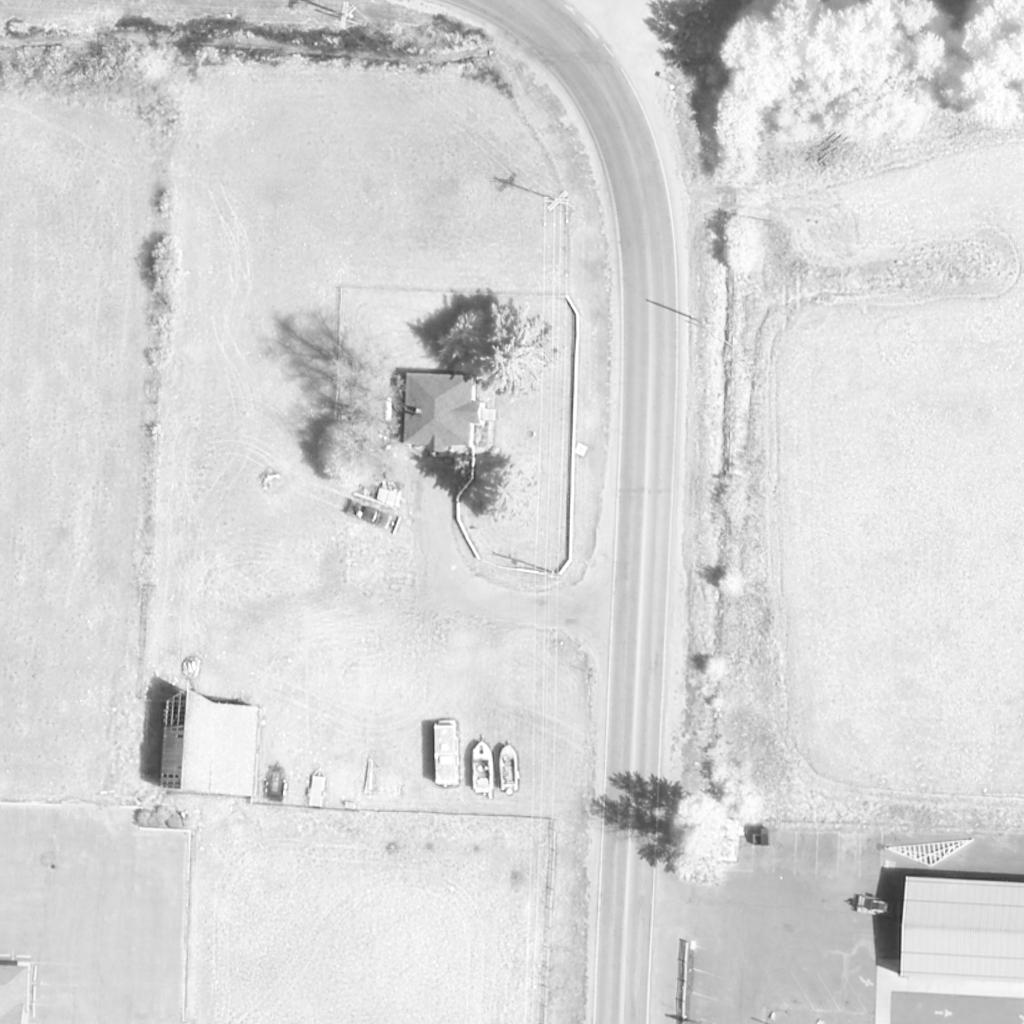vehicle: (430, 716, 462, 792), (344, 498, 394, 530), (852, 891, 904, 919), (470, 741, 494, 793), (502, 744, 520, 796)
